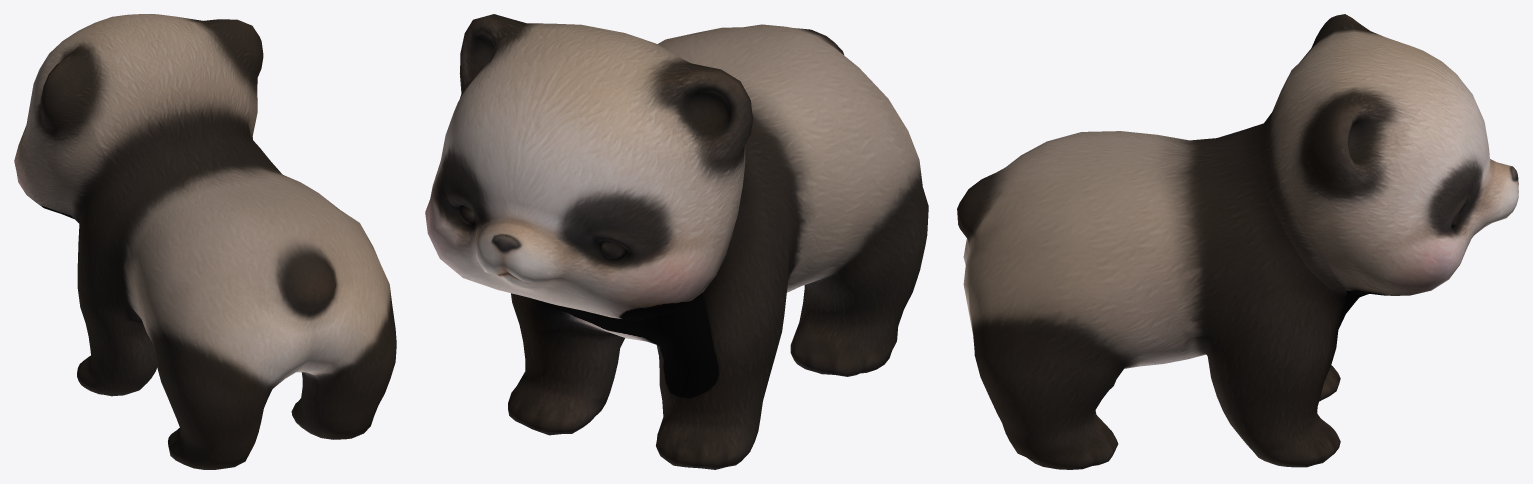
File: panda2.gltf
3 renders of one model, left to right at view 1: azimuth 30°, elevation 25°; view 2: azimuth 150°, elevation 25°; view 3: azimuth 270°, elevation 25°, orthographic. The views are drawn at different scales.
Parts seen in each view (by area): view 1: panda2; view 2: panda2; view 3: panda2.
Part boxes in pixels (left/top/right/bottom): panda2: left=14, top=14, right=396, bottom=469; panda2: left=425, top=14, right=928, bottom=469; panda2: left=957, top=14, right=1518, bottom=469.
Size of the model in its own units: 1.03 by 1.47 by 2.
1 material, 1 textured.
